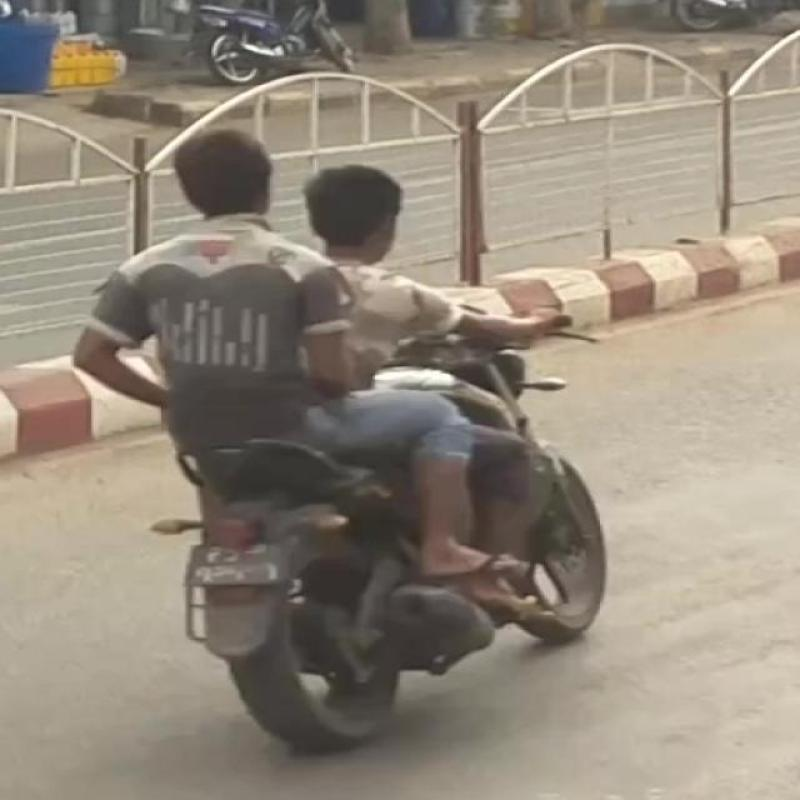nohelmet: (320, 139, 484, 327), (165, 120, 305, 281)
